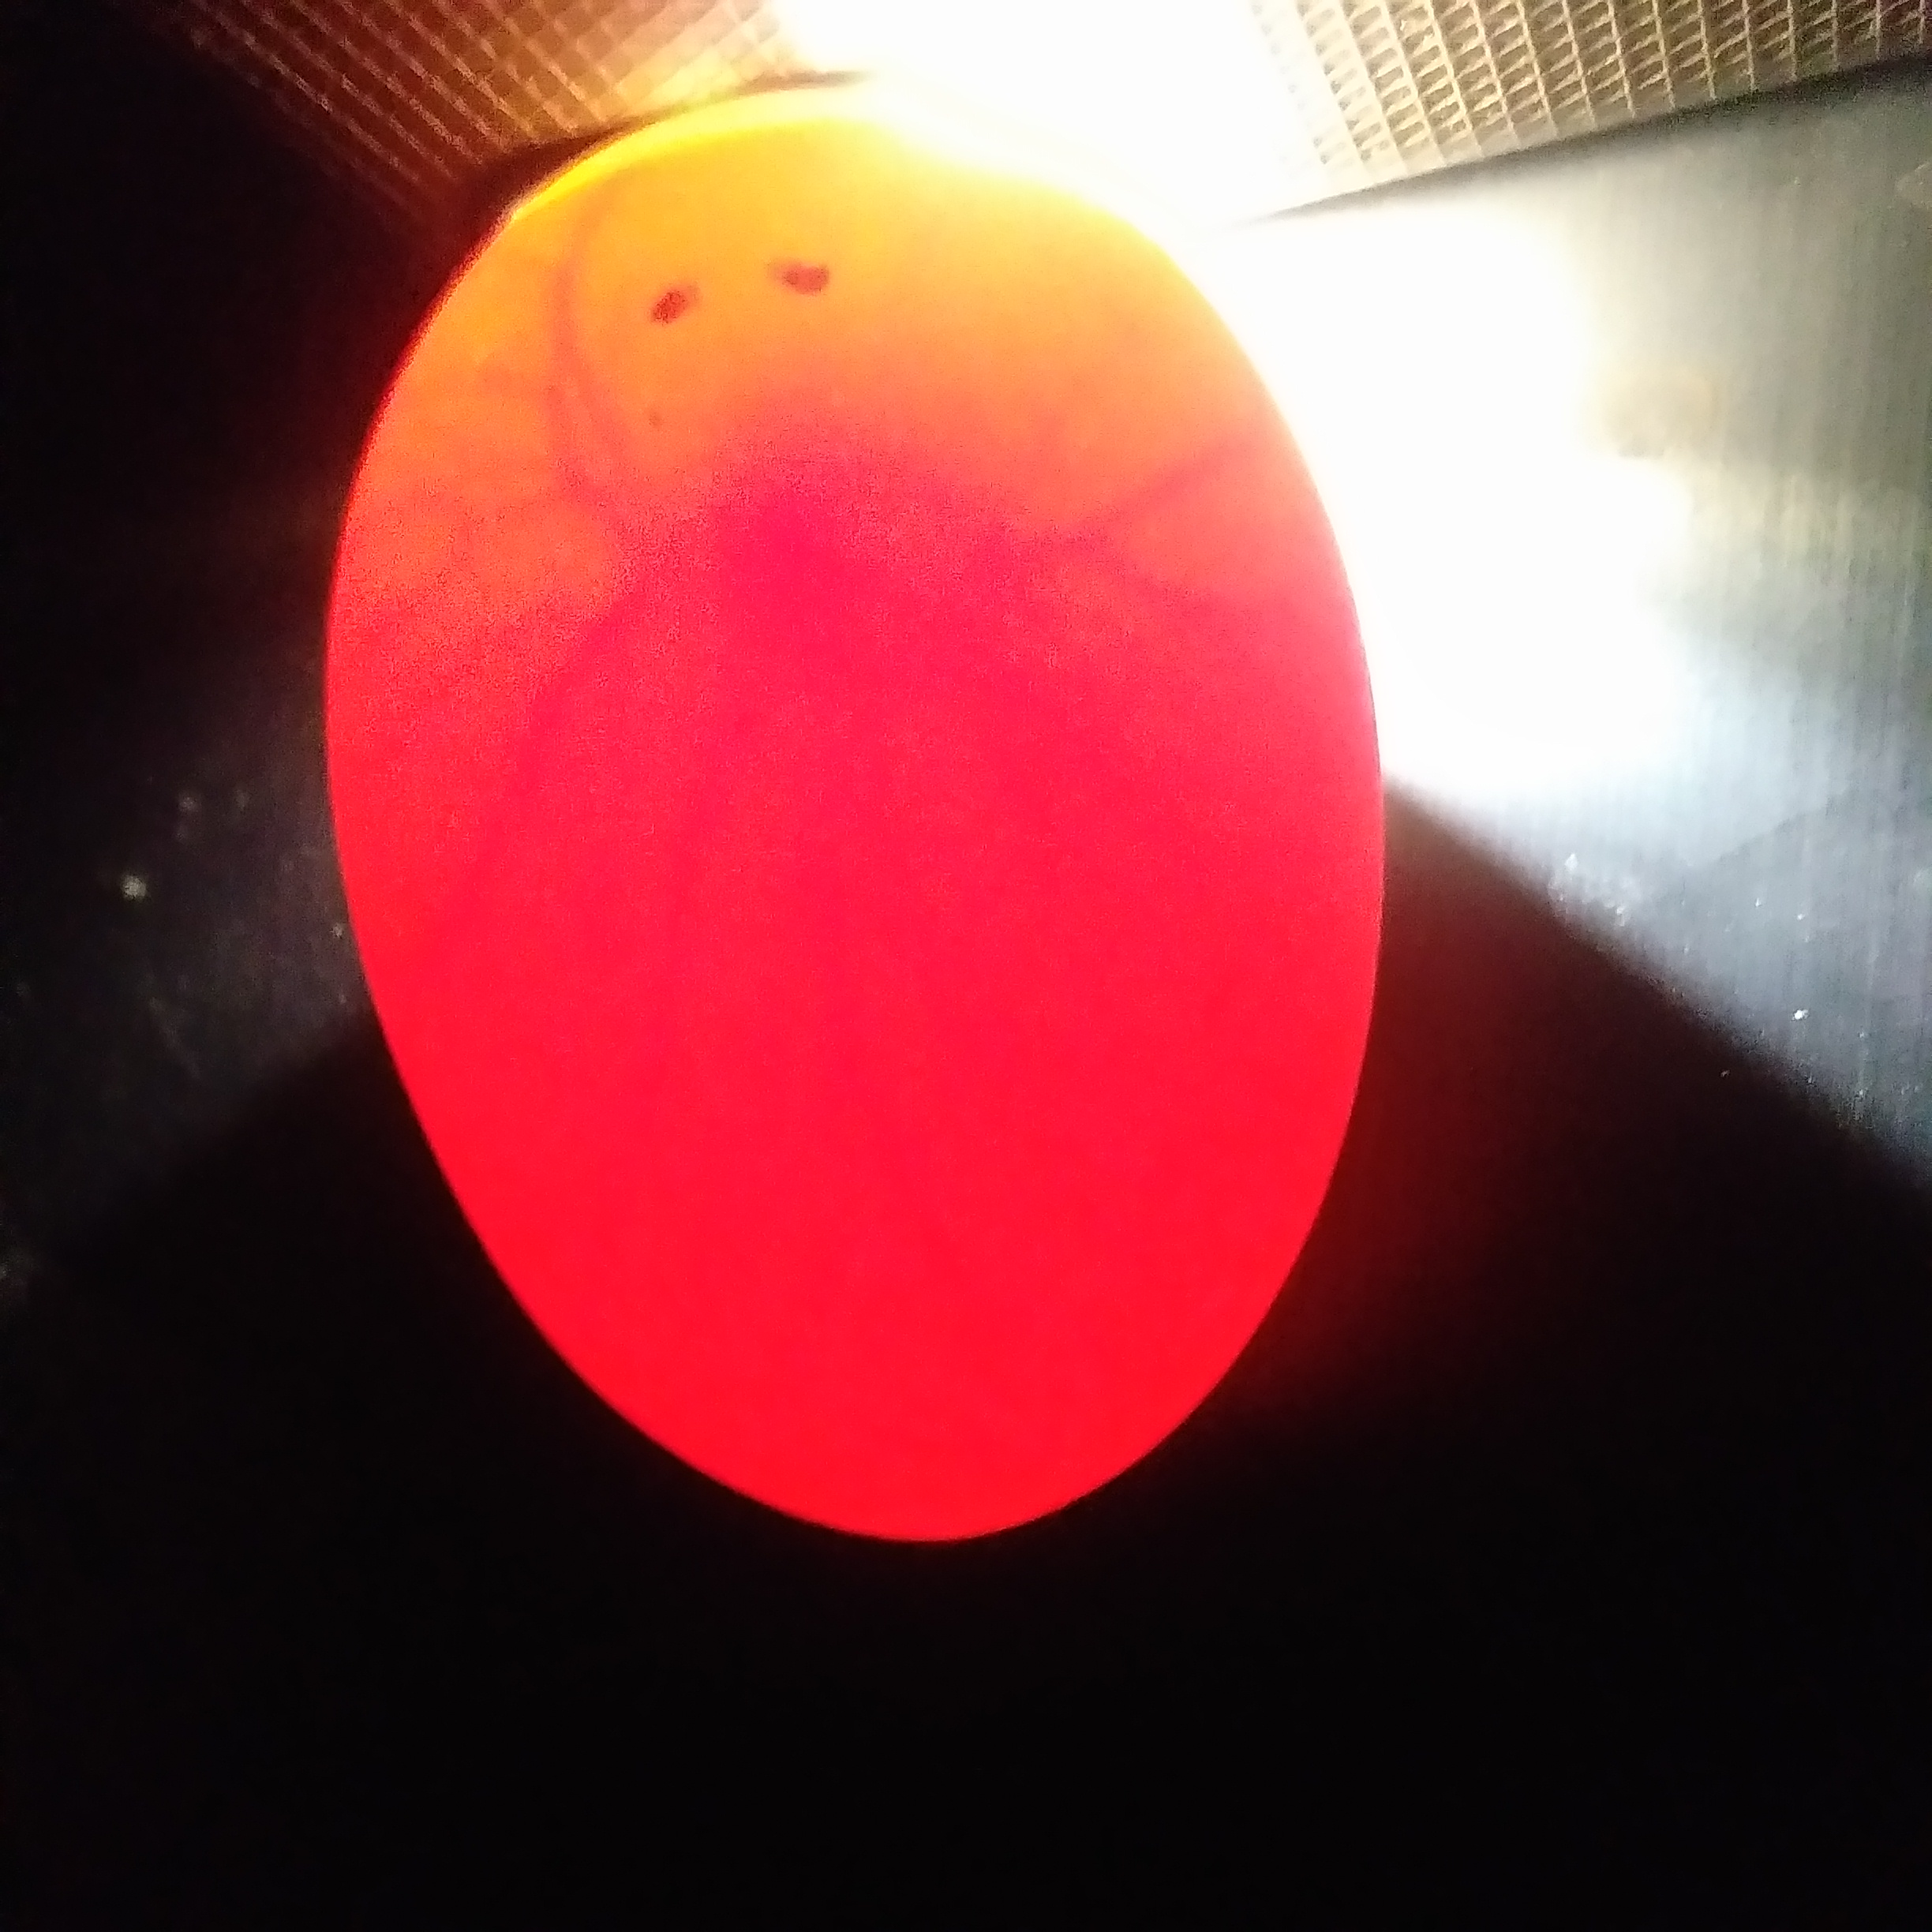bloodcell: (991, 318, 1235, 775)
embryo: (676, 425, 909, 646)
